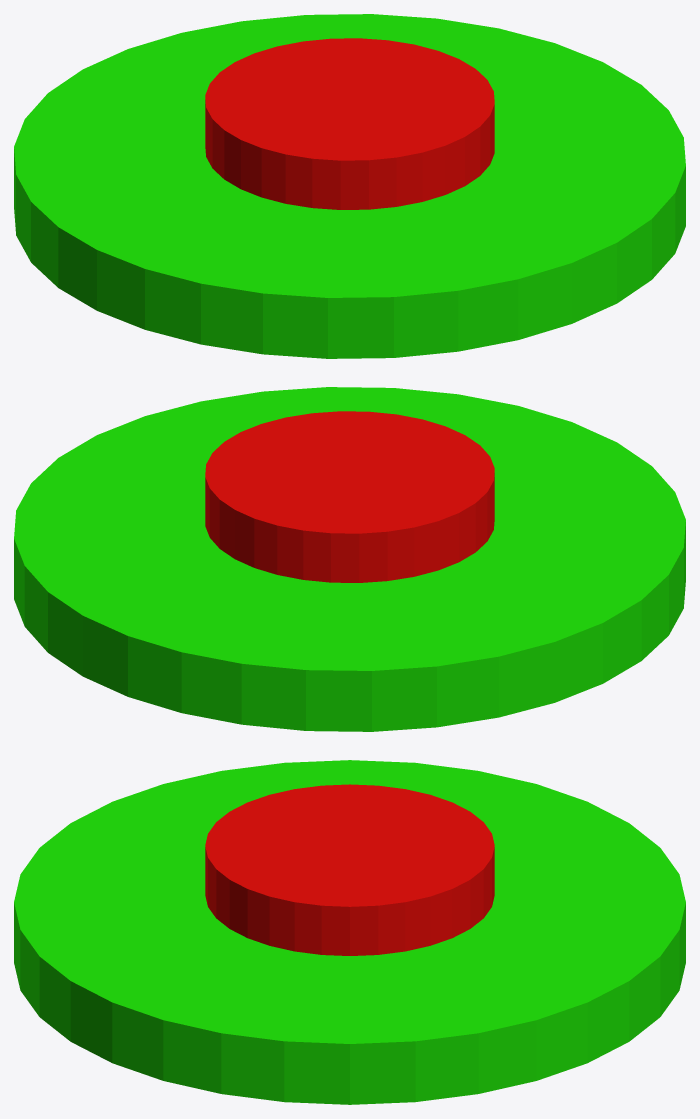
File: Landmine.fbx
The picture shows the model from 3 angles, top to bottom: view 1: azimuth 30°, elevation 25°; view 2: azimuth 150°, elevation 25°; view 3: azimuth 270°, elevation 25°; orthographic projection.
Parts seen in each view (by area): view 1: Cylinder; view 2: Cylinder; view 3: Cylinder.
Boxes of the visible parts, x1,y1,x2,y2 form: Cylinder: [14, 14, 685, 358]; Cylinder: [14, 387, 685, 731]; Cylinder: [14, 760, 685, 1104].
Bounding box in the file's own units: 92.35 × 17.77 × 92.35.
